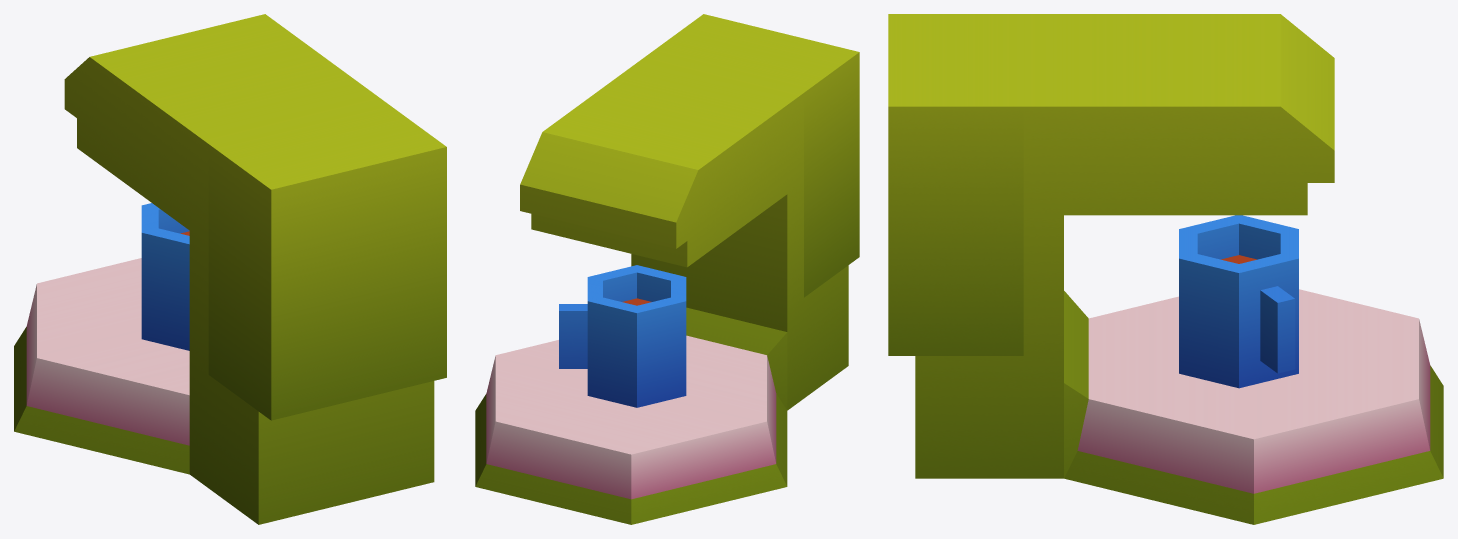
The model's file is coffeeMachine.fbx.
3 renders of one model, left to right at view 1: azimuth 30°, elevation 25°; view 2: azimuth 150°, elevation 25°; view 3: azimuth 270°, elevation 25°, orthographic. The views are drawn at different scales.
Parts seen in each view (by area): view 1: kitchenCoffeeMachine; view 2: kitchenCoffeeMachine; view 3: kitchenCoffeeMachine.
Part boxes in pixels (<box>): kitchenCoffeeMachine: <box>14,14,446,524</box>; kitchenCoffeeMachine: <box>475,14,859,524</box>; kitchenCoffeeMachine: <box>888,14,1443,524</box>.
Size of the model in its own units: 44.04 by 41.24 by 55.8.
